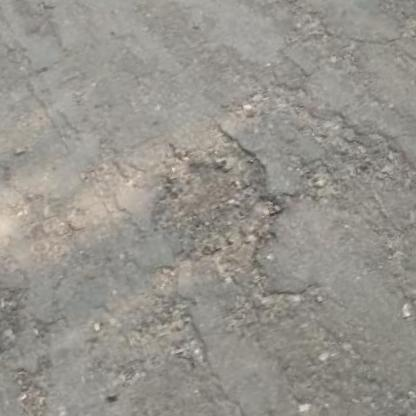pothole: (124, 123, 299, 296)
